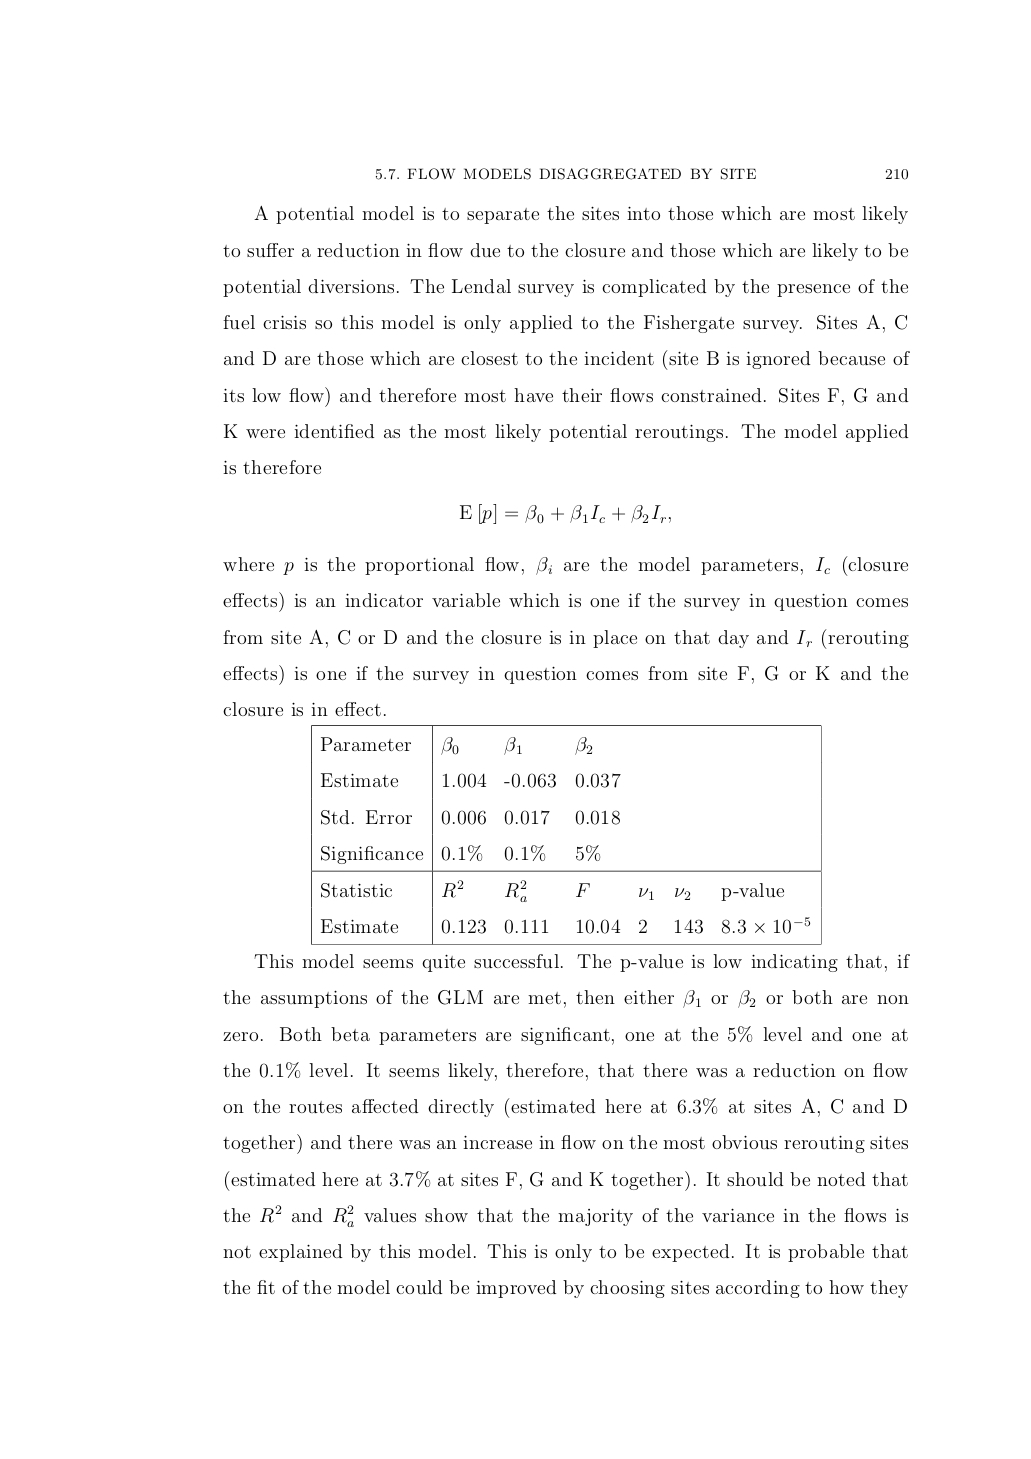Table: (311, 724, 821, 945)
formula: (459, 502, 669, 524)
